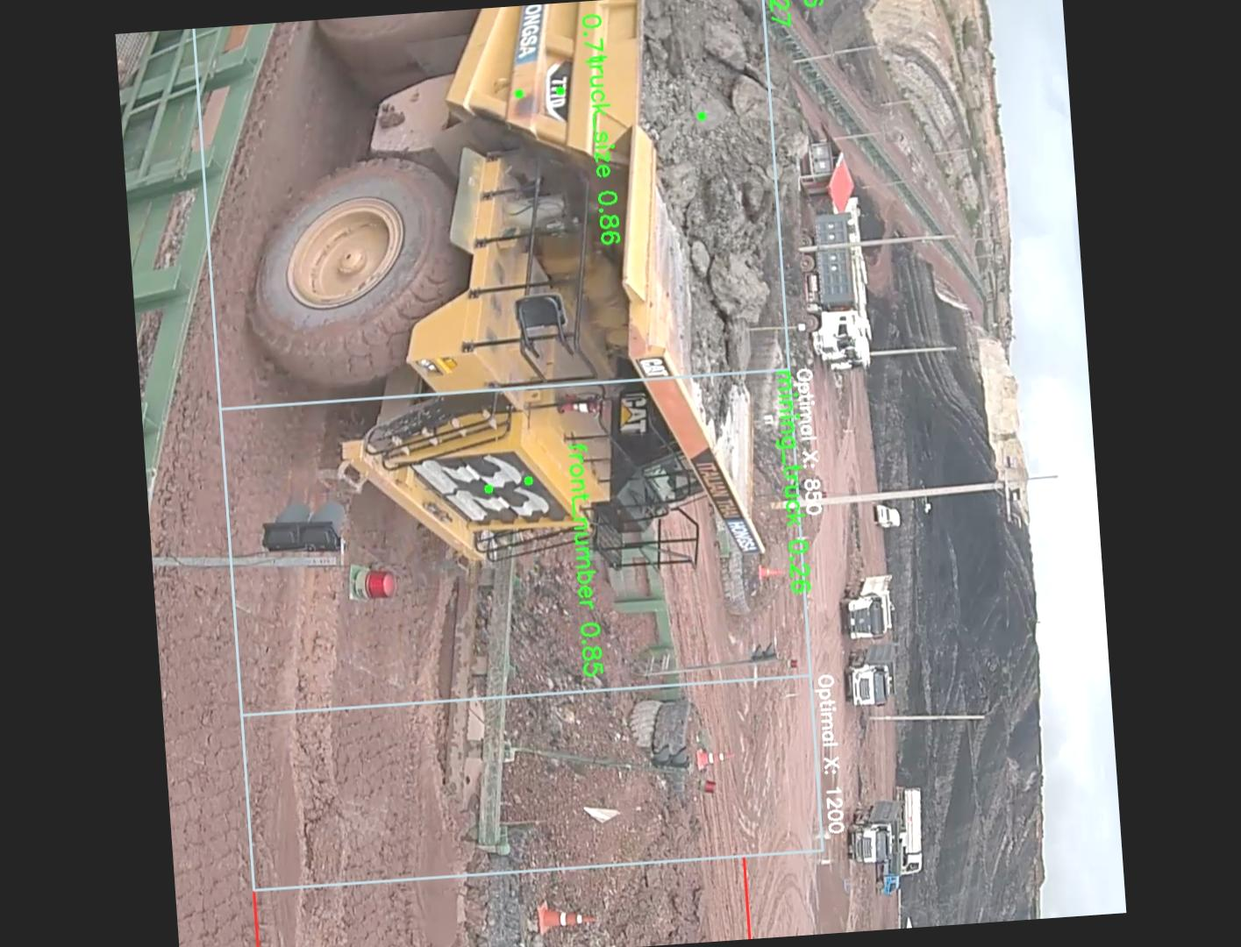company: (510, 2, 581, 61)
full_load: (611, 0, 817, 300)
mining_truck: (228, 0, 867, 614)
truck_size: (536, 54, 579, 118)
